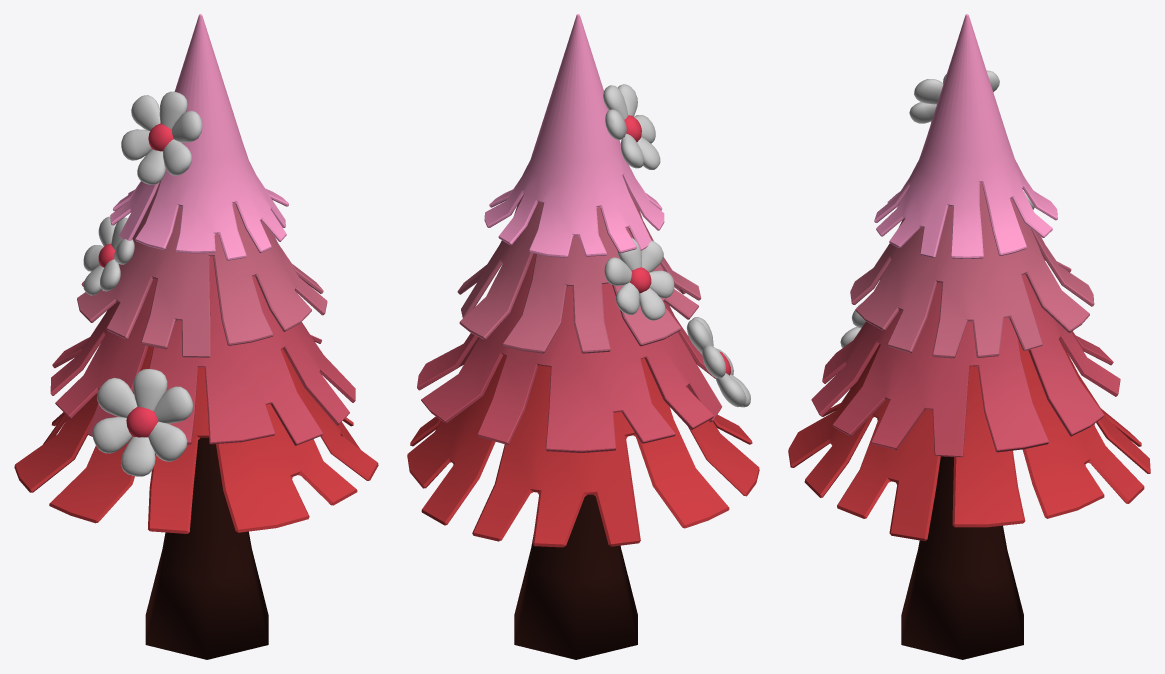
The model's file is spring tree.fbx.
The picture shows the model from 3 angles, left to right: view 1: azimuth 30°, elevation 25°; view 2: azimuth 150°, elevation 25°; view 3: azimuth 270°, elevation 25°; orthographic projection.
Visible parts, largest first — view 1: Cylinder.019, Cylinder.020, Cylinder.021, Cylinder.022, Trunk.005, Cylinder.025, Cylinder.024, Cylinder.023; view 2: Cylinder.019, Cylinder.020, Cylinder.022, Cylinder.021, Trunk.005, Cylinder.023, Cylinder.024, Cylinder.025; view 3: Cylinder.019, Cylinder.020, Cylinder.021, Cylinder.022, Trunk.005, Cylinder.024.
Boxes of the visible parts, x1=… form: Cylinder.019: x1=14, y1=346, x2=378, y2=533; Cylinder.020: x1=50, y1=256, x2=355, y2=445; Cylinder.021: x1=77, y1=181, x2=327, y2=357; Cylinder.022: x1=110, y1=14, x2=288, y2=260; Trunk.005: x1=145, y1=438, x2=268, y2=659; Cylinder.025: x1=92, y1=369, x2=193, y2=476; Cylinder.024: x1=121, y1=91, x2=202, y2=184; Cylinder.023: x1=83, y1=216, x2=134, y2=295; Cylinder.019: x1=407, y1=354, x2=759, y2=547; Cylinder.020: x1=417, y1=253, x2=722, y2=452; Cylinder.022: x1=484, y1=14, x2=664, y2=257; Cylinder.021: x1=457, y1=186, x2=701, y2=353; Trunk.005: x1=514, y1=494, x2=637, y2=659; Cylinder.023: x1=604, y1=238, x2=674, y2=320; Cylinder.024: x1=603, y1=84, x2=660, y2=169; Cylinder.025: x1=687, y1=317, x2=750, y2=407; Cylinder.019: x1=788, y1=338, x2=1150, y2=541; Cylinder.020: x1=811, y1=274, x2=1120, y2=457; Cylinder.021: x1=850, y1=183, x2=1094, y2=358; Cylinder.022: x1=874, y1=14, x2=1057, y2=258; Trunk.005: x1=901, y1=456, x2=1023, y2=659; Cylinder.024: x1=909, y1=70, x2=999, y2=123.
Size of the model in its own units: 378 by 387 by 723.
